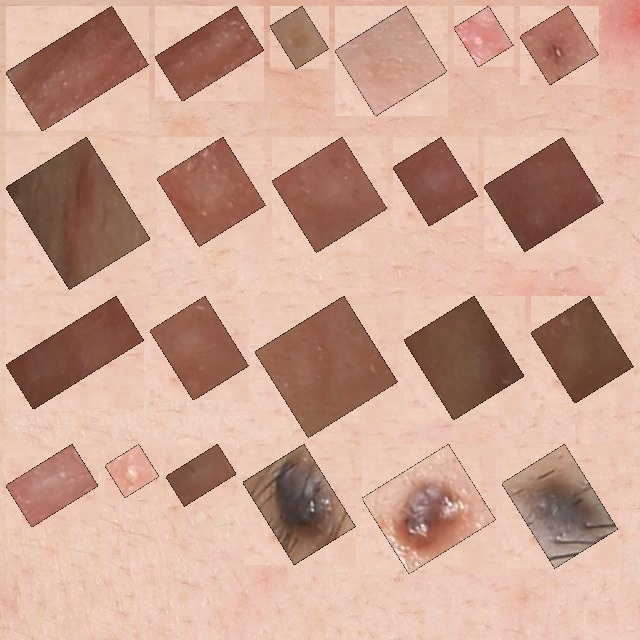hypertrophic_scar: (17, 148, 139, 278), (266, 307, 387, 426), (17, 17, 138, 120), (17, 307, 133, 398), (415, 307, 513, 409), (495, 148, 593, 241), (283, 148, 376, 241), (168, 148, 255, 235), (542, 307, 622, 392), (166, 17, 253, 90), (161, 307, 238, 389), (17, 455, 87, 516), (404, 148, 467, 215), (177, 455, 225, 495)
melasma: (346, 17, 436, 105), (281, 17, 318, 58)
nevus: (373, 455, 485, 563), (513, 455, 607, 557), (254, 455, 344, 553), (531, 17, 588, 74)
pustule: (465, 17, 502, 56), (116, 455, 148, 486)
